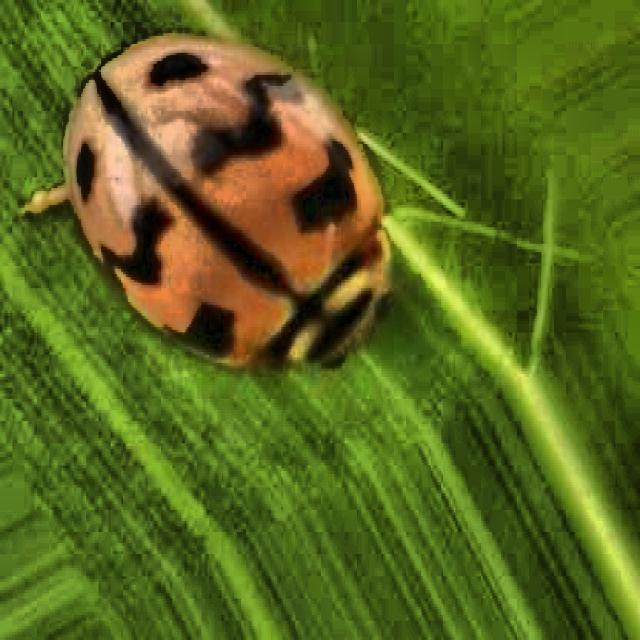Asian-Lady-beetle: (42, 34, 415, 383)
